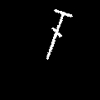double_crochet: (47, 10, 71, 58)
